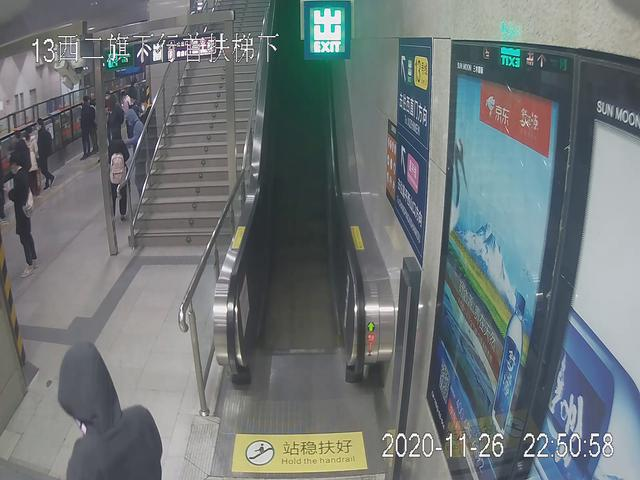person: (4, 153, 39, 281), (107, 129, 135, 219), (34, 120, 58, 190), (77, 93, 93, 160)
